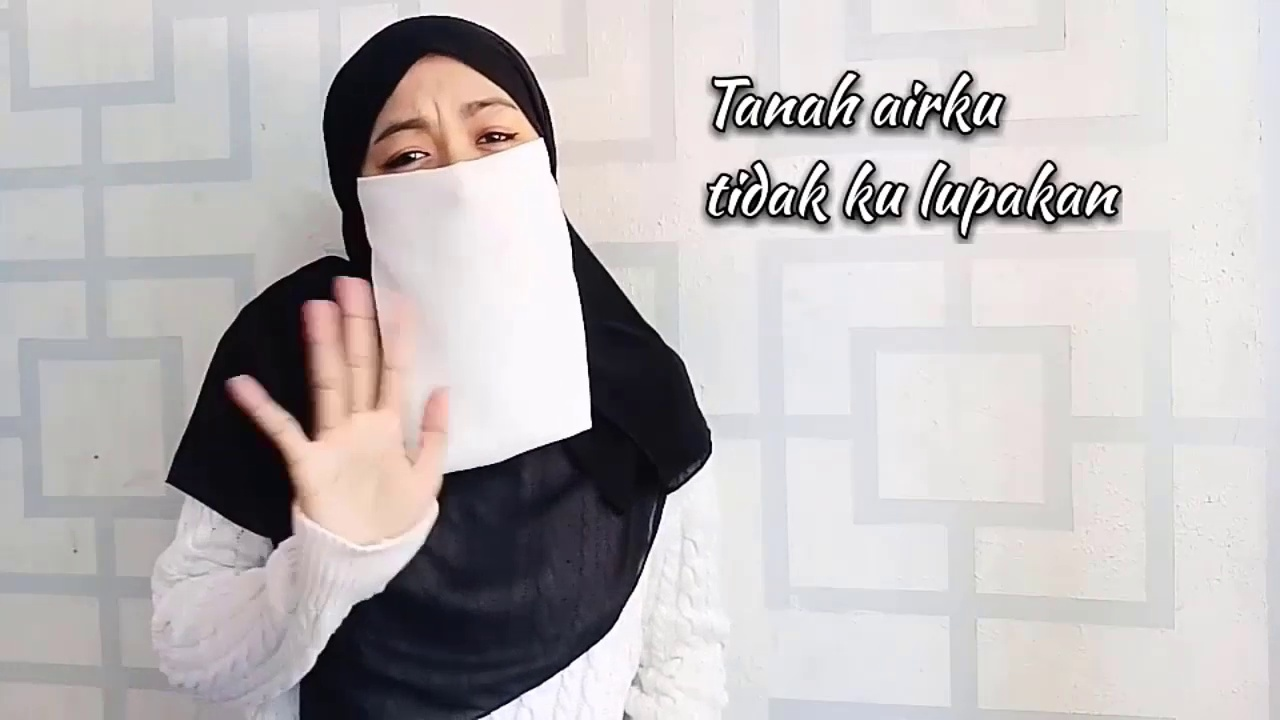TIDAK: (138, 258, 479, 706)
